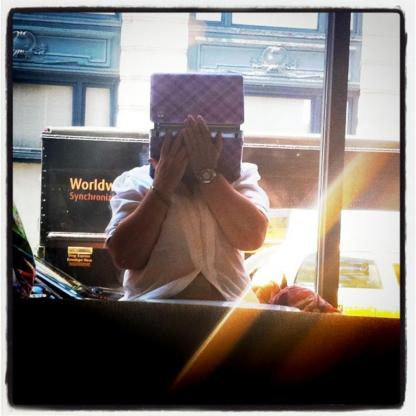board: (150, 72, 244, 179)
